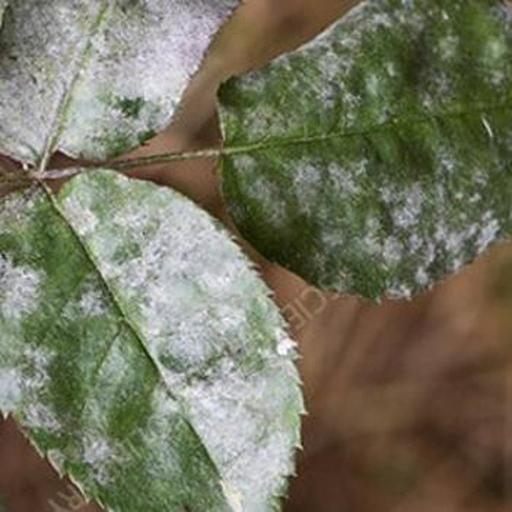powdery_mildew: (0, 169, 303, 512), (220, 0, 512, 298), (0, 0, 238, 164)
